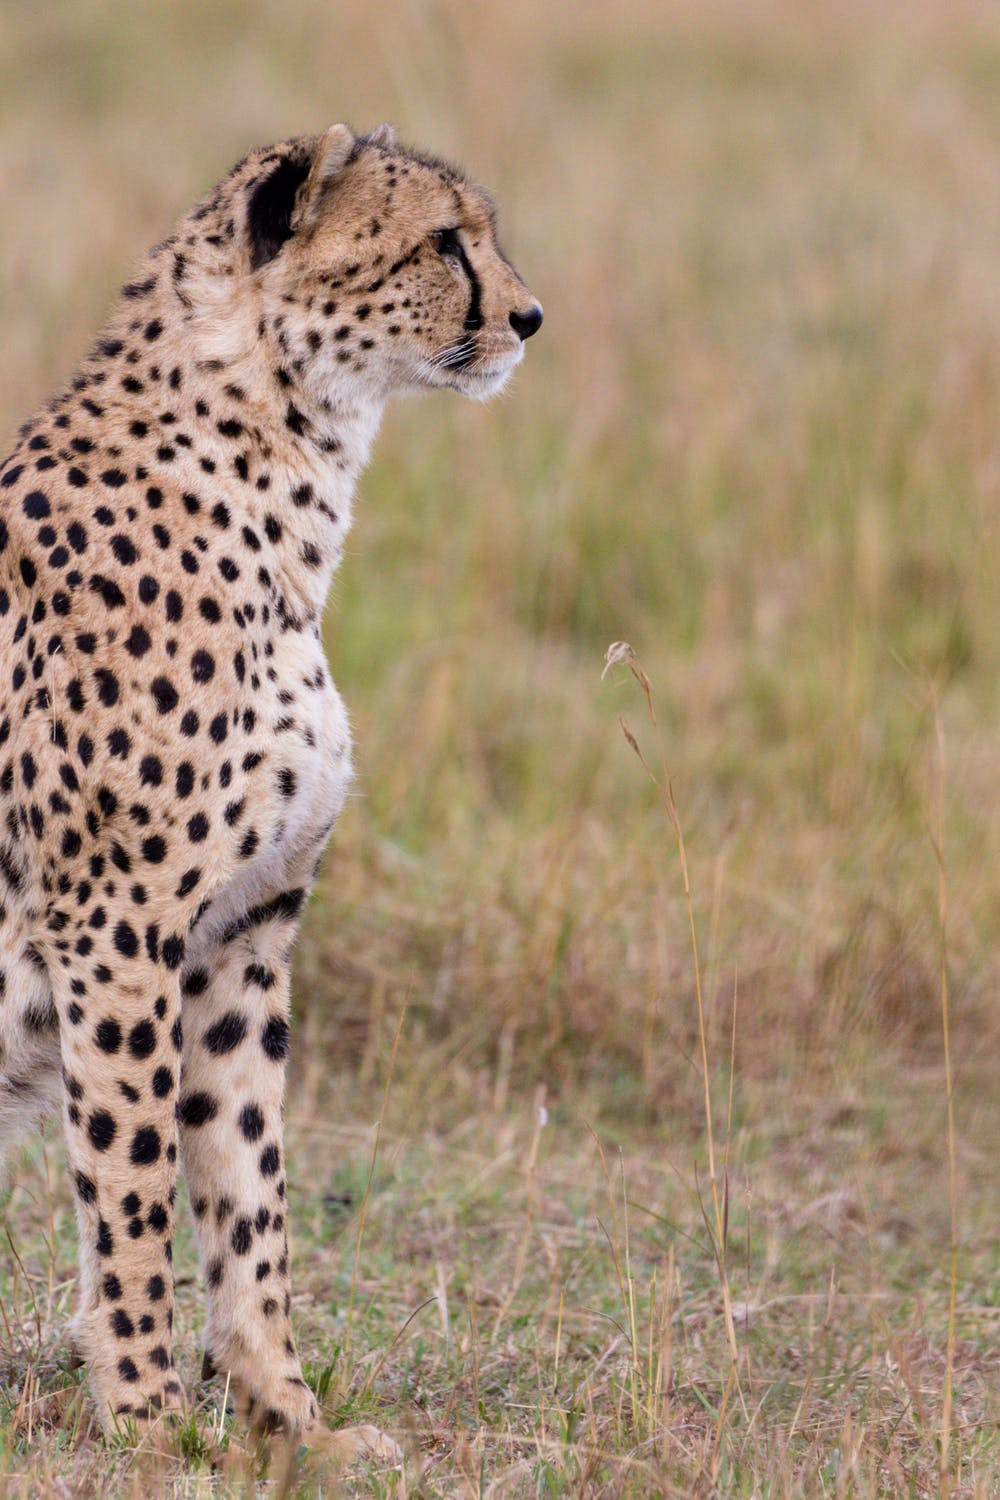cheetah: (158, 114, 573, 416)
